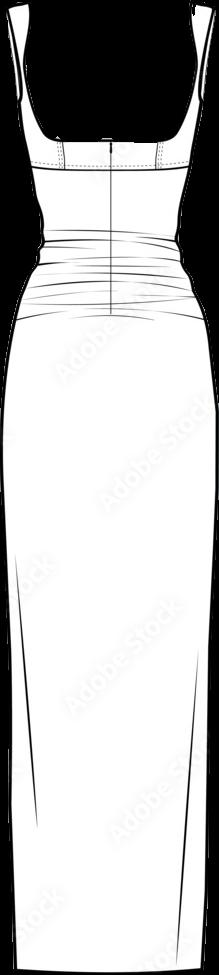Bodice: (6, 2, 215, 174)
Hemline: (12, 958, 209, 974)
Neckline: (17, 0, 204, 150)
Skirt: (1, 173, 217, 970)
Waistline: (28, 161, 191, 180)
